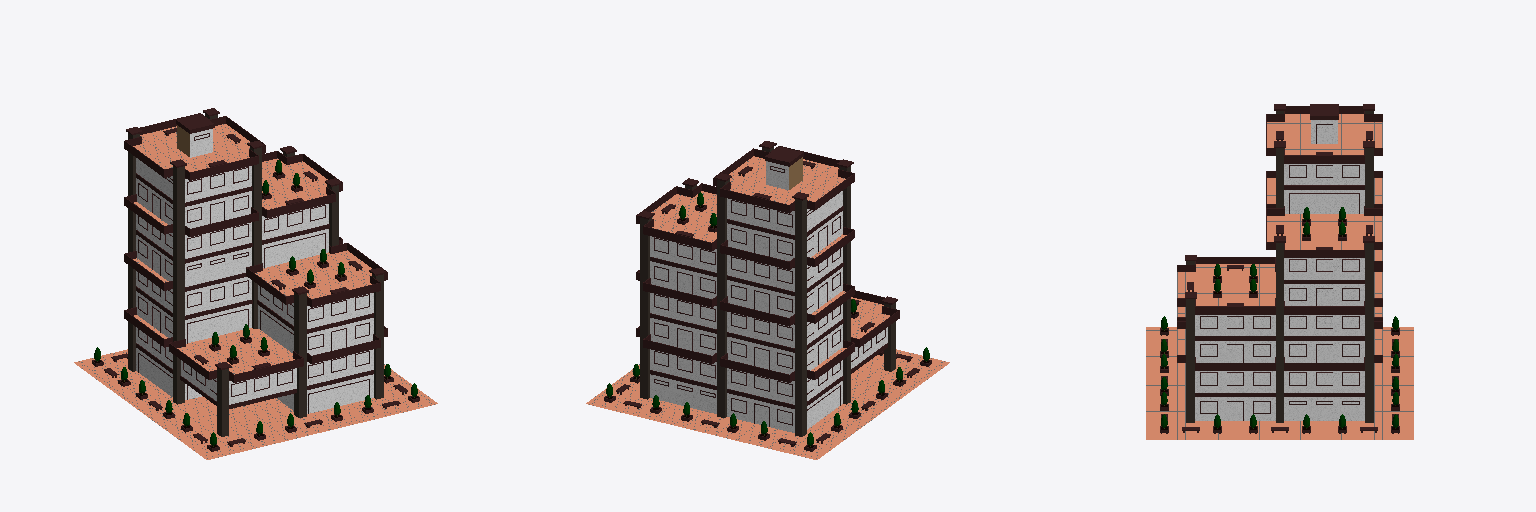
The picture shows the model from 3 angles: view 1: azimuth 30°, elevation 25°; view 2: azimuth 150°, elevation 25°; view 3: azimuth 270°, elevation 25°; orthographic projection.
Parts seen in each view (by area): view 1: Plane.176_Plane, Plane.127_Plane.174, Plane.026_Plane.007, Plane.122_Plane.025, Plane.172_Plane.240, Plane.168_Plane.236, Plane.111_Plane.151, Plane.003_Plane.020, Plane.034_Plane.082, Plane.062_Plane.084, Plane.045_Plane.056, Plane.171_Plane.239 (+26 smaller); view 2: Plane.176_Plane, Plane.127_Plane.174, Plane.172_Plane.240, Plane.171_Plane.239, Plane.014_Plane.165, Plane.122_Plane.025, Plane.159_Plane.216, Plane.022_Plane.030, Plane.031_Plane.042, Plane.132_Plane.188, Plane.148_Plane.204, Plane.135_Plane.191 (+25 smaller); view 3: Plane.176_Plane, Plane.127_Plane.174, Plane.026_Plane.007, Plane.172_Plane.240, Plane.023_Plane.031, Plane.119_Plane.168, Plane.027_Plane.061, Plane.056_Plane.177, Plane.058_Plane.178, Plane.159_Plane.216, Plane.029_Plane.050, Plane.053_Plane.065 (+12 smaller).
Part boxes in pixels (bbox=[...]): Plane.176_Plane: bbox=[74, 349, 437, 459]; Plane.127_Plane.174: bbox=[124, 113, 265, 180]; Plane.026_Plane.007: bbox=[246, 243, 387, 307]; Plane.122_Plane.025: bbox=[169, 328, 303, 382]; Plane.172_Plane.240: bbox=[262, 151, 342, 218]; Plane.168_Plane.236: bbox=[173, 166, 184, 404]; Plane.111_Plane.151: bbox=[185, 247, 251, 286]; Plane.003_Plane.020: bbox=[307, 374, 373, 413]; Plane.034_Plane.082: bbox=[185, 304, 251, 343]; Plane.062_Plane.084: bbox=[262, 229, 328, 267]; Plane.045_Plane.056: bbox=[185, 277, 251, 315]; Plane.171_Plane.239: bbox=[128, 133, 139, 371]; Plane.176_Plane: bbox=[586, 349, 949, 459]; Plane.127_Plane.174: bbox=[713, 146, 854, 213]; Plane.172_Plane.240: bbox=[636, 183, 716, 250]; Plane.171_Plane.239: bbox=[795, 198, 806, 436]; Plane.014_Plane.165: bbox=[717, 179, 729, 417]; Plane.122_Plane.025: bbox=[851, 290, 899, 347]; Plane.159_Plane.216: bbox=[640, 217, 651, 399]; Plane.022_Plane.030: bbox=[650, 374, 716, 413]; Plane.031_Plane.042: bbox=[727, 393, 794, 432]; Plane.132_Plane.188: bbox=[727, 337, 794, 374]; Plane.148_Plane.204: bbox=[727, 223, 794, 260]; Plane.135_Plane.191: bbox=[727, 280, 794, 317]; Plane.176_Plane: bbox=[1146, 327, 1413, 439]; Plane.127_Plane.174: bbox=[1266, 106, 1382, 163]; Plane.026_Plane.007: bbox=[1177, 257, 1275, 314]; Plane.172_Plane.240: bbox=[1266, 206, 1382, 257]; Plane.023_Plane.031: bbox=[1284, 397, 1364, 420]; Plane.119_Plane.168: bbox=[1284, 190, 1364, 213]; Plane.027_Plane.061: bbox=[1195, 397, 1275, 420]; Plane.056_Plane.177: bbox=[1284, 284, 1364, 305]; Plane.058_Plane.178: bbox=[1284, 258, 1364, 279]; Plane.159_Plane.216: bbox=[1365, 243, 1373, 422]; Plane.029_Plane.050: bbox=[1195, 341, 1275, 362]; Plane.053_Plane.065: bbox=[1284, 341, 1364, 362].
Bounding box in the file's own units: 300 × 315 × 300.
Materials: 11 (2 with a texture image).